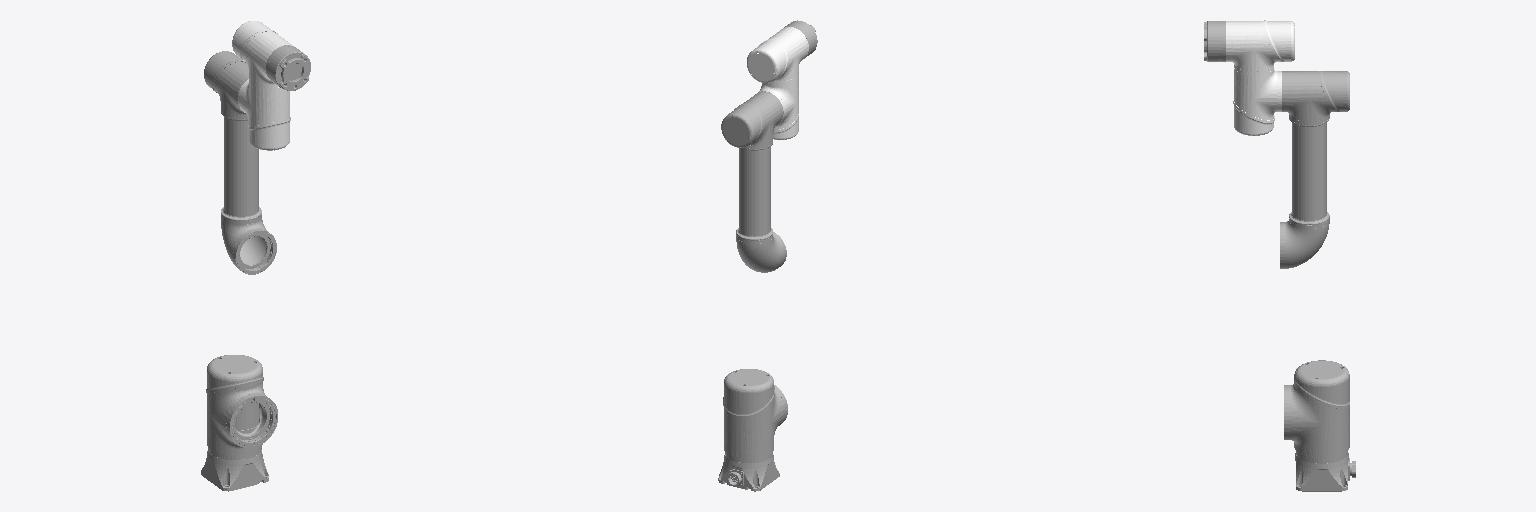
robot.urdf — ROCR6II_URDF_file:
<?xml version="1.0" encoding="utf-8"?>
<!-- This URDF was automatically created by SolidWorks to URDF Exporter! Originally created by [author] ([email redacted]) 
     Commit Version: 1.5.1-0-g916b5db  Build Version: 1.5.7152.31018
     For more information, please see http://wiki.ros.org/sw_urdf_exporter -->
<robot
  name="ROCR6II_URDF_file">
  <link name="world" />
  <joint name="world_joint" type="fixed">
    <parent link="world" />
    <child link = "base_link" />
    <origin xyz="0.0 0.0 0.0" rpy="3.1415926536 3.1415926536 0.0" />
  </joint>
  <link name="base"/>
  <joint name="base_link-base_fixed_joint" type="fixed">
	  <!-- NOTE: this rotation is only needed as long as base_link itself is
				 not corrected wrt the real robot (ie: rotated over 180
				 degrees)
	  -->
	  <origin xyz="0 0 0" rpy="0 0 -3.1415926536"/>
	  <parent link="base_link"/>
	  <child link="base"/>
  </joint>
  <link
    name="base_link">
    <inertial>
      <origin
        xyz="4.9125E-05 0.00039917 0.028159"
        rpy="0 0 0" />
      <mass
        value="0.9133" />
      <inertia
        ixx="0.0010268"
        ixy="-1.8231E-06"
        ixz="1.1094E-06"
        iyy="0.0010578"
        iyz="5.9529E-06"
        izz="0.001565" />
    </inertial>
    <visual>
      <origin
        xyz="0 0 0"
        rpy="0 0 0" />
      <geometry>
        <mesh
          filename="package://ROCR6II_URDF_file/meshes/base_link.STL" />
      </geometry>
      <material
        name="">
        <color
          rgba="0.75294 0.75294 0.75294 1" />
      </material>
    </visual>
    <collision>
      <origin
        xyz="0 0 0"
        rpy="0 0 0" />
      <geometry>
        <mesh
          filename="package://ROCR6II_URDF_file/meshes/base_link.STL" />
      </geometry>
    </collision>
  </link>
  <link
    name="shoulder_link">
    <inertial>
      <origin
        xyz="7.9174E-07 0.0037223 0.0030792"
        rpy="0 0 0" />
      <mass
        value="6.7582" />
      <inertia
        ixx="0.013187"
        ixy="5.4008E-08"
        ixz="4.6922E-08"
        iyy="0.012917"
        iyz="0.00018276"
        izz="0.0081221" />
    </inertial>
    <visual>
      <origin
        xyz="0 0 0"
        rpy="0 0 0" />
      <geometry>
        <mesh
          filename="package://ROCR6II_URDF_file/meshes/shoulder_link.STL" />
      </geometry>
      <material
        name="">
        <color
          rgba="0.75294 0.75294 0.75294 1" />
      </material>
    </visual>
    <collision>
      <origin
        xyz="0 0 0"
        rpy="0 0 0" />
      <geometry>
        <mesh
          filename="package://ROCR6II_URDF_file/meshes/shoulder_link.STL" />
      </geometry>
    </collision>
  </link>
  <joint
    name="shoulder_pan_joint"
    type="revolute">
    <origin
      xyz="0 0 0.1215"
      rpy="0 0 0" />
    <parent
      link="base_link" />
    <child
      link="shoulder_link" />
    <axis
      xyz="0 0 1" />
    <limit
      lower="-3.1416"
      upper="3.1416"
      effort="150"
      velocity="30" />
  </joint>
  <link
    name="upper_arm_link">
    <inertial>
      <origin
        xyz="-5.4357E-07 0.0032767 0.12625"
        rpy="0 0 0" />
      <mass
        value="12.877" />
      <inertia
        ixx="0.024695"
        ixy="-8.2704E-09"
        ixz="-6.8716E-08"
        iyy="0.019038"
        iyz="0.00066134"
        izz="0.018496" />
    </inertial>
    <visual>
      <origin
        xyz="0 0 0"
        rpy="0 0 0" />
      <geometry>
        <mesh
          filename="package://ROCR6II_URDF_file/meshes/upper_arm_link.STL" />
      </geometry>
      <material
        name="">
        <color
          rgba="0.75294 0.75294 0.75294 1" />
      </material>
    </visual>
    <collision>
      <origin
        xyz="0 0 0"
        rpy="0 0 0" />
      <geometry>
        <mesh
          filename="package://ROCR6II_URDF_file/meshes/upper_arm_link.STL" />
      </geometry>
    </collision>
  </link>
  <joint
    name="shoulder_lift_joint"
    type="revolute">
    <origin
      xyz="0 0.1225 0"
      rpy="0 0 0" />
    <parent
      link="shoulder_link" />
    <child
      link="upper_arm_link" />
    <axis
      xyz="0 1 0" />
    <limit
      lower="-3.1416"
      upper="3.1416"
      effort="150"
      velocity="30" />
  </joint>
  <link
    name="forearm_link">
    <inertial>
      <origin
        xyz="0.00014266 -0.0049203 0.20706"
        rpy="0 0 0" />
      <mass
        value="4.7791" />
      <inertia
        ixx="0.0094222"
        ixy="-1.1118E-05"
        ixz="1.1672E-05"
        iyy="0.0072962"
        iyz="0.00022329"
        izz="0.0052999" />
    </inertial>
    <visual>
      <origin
        xyz="0 0 0"
        rpy="0 0 0" />
      <geometry>
        <mesh
          filename="package://ROCR6II_URDF_file/meshes/forearm_link.STL" />
      </geometry>
      <material
        name="">
        <color
          rgba="0.75294 0.75294 0.75294 1" />
      </material>
    </visual>
    <collision>
      <origin
        xyz="0 0 0"
        rpy="0 0 0" />
      <geometry>
        <mesh
          filename="package://ROCR6II_URDF_file/meshes/forearm_link.STL" />
      </geometry>
    </collision>
  </link>
  <joint
    name="elbow_joint"
    type="revolute">
    <origin
      xyz="0 -0.102 0.3"
      rpy="0 0 0" />
    <parent
      link="upper_arm_link" />
    <child
      link="forearm_link" />
    <axis
      xyz="0 1 0" />
    <limit
      lower="-3.1416"
      upper="3.1416"
      effort="150"
      velocity="30" />
  </joint>
  <link
    name="wrist_1_link">
    <inertial>
      <origin
        xyz="5.3079E-07 0.087296 -0.010609"
        rpy="0 0 0" />
      <mass
        value="3.1072" />
      <inertia
        ixx="0.0040287"
        ixy="-7.3158E-09"
        ixz="-2.3481E-09"
        iyy="0.0039406"
        iyz="9.4145E-05"
        izz="0.0018825" />
    </inertial>
    <visual>
      <origin
        xyz="0 0 0"
        rpy="0 0 0" />
      <geometry>
        <mesh
          filename="package://ROCR6II_URDF_file/meshes/wrist_1_link.STL" />
      </geometry>
      <material
        name="">
        <color
          rgba="1 1 1 1" />
      </material>
    </visual>
    <collision>
      <origin
        xyz="0 0 0"
        rpy="0 0 0" />
      <geometry>
        <mesh
          filename="package://ROCR6II_URDF_file/meshes/wrist_1_link.STL" />
      </geometry>
    </collision>
  </link>
  <joint
    name="wrist_1_joint"
    type="revolute">
    <origin
      xyz="0 0 0.276"
      rpy="0 0 0" />
    <parent
      link="forearm_link" />
    <child
      link="wrist_1_link" />
    <axis
      xyz="0 1 0" />
    <limit
      lower="-3.1416"
      upper="3.1416"
      effort="150"
      velocity="30" />
  </joint>
  <link
    name="wrist_2_link">
    <inertial>
      <origin
        xyz="-5.306E-07 -0.010609 0.087296"
        rpy="0 0 0" />
      <mass
        value="3.1072" />
      <inertia
        ixx="0.0040287"
        ixy="2.3491E-09"
        ixz="7.3E-09"
        iyy="0.0018825"
        iyz="9.4145E-05"
        izz="0.0039406" />
    </inertial>
    <visual>
      <origin
        xyz="0 0 0"
        rpy="0 0 0" />
      <geometry>
        <mesh
          filename="package://ROCR6II_URDF_file/meshes/wrist_2_link.STL" />
      </geometry>
      <material
        name="">
        <color
          rgba="1 1 1 1" />
      </material>
    </visual>
    <collision>
      <origin
        xyz="0 0 0"
        rpy="0 0 0" />
      <geometry>
        <mesh
          filename="package://ROCR6II_URDF_file/meshes/wrist_2_link.STL" />
      </geometry>
    </collision>
  </link>
  <joint
    name="wrist_2_joint"
    type="revolute">
    <origin
      xyz="0 0.09 0"
      rpy="0 0 0" />
    <parent
      link="wrist_1_link" />
    <child
      link="wrist_2_link" />
    <axis
      xyz="0 0 1" />
    <limit
      lower="-3.1416"
      upper="3.1416"
      effort="150"
      velocity="30" />
  </joint>
  <link
    name="wrist_3_link">
    <inertial>
      <origin
        xyz="-1.7174E-09 0.064961 2.5473E-05"
        rpy="0 0 0" />
      <mass
        value="0.59141" />
      <inertia
        ixx="0.0002476"
        ixy="-2.2015E-14"
        ixz="1.3425E-10"
        iyy="0.00040058"
        iyz="4.9238E-06"
        izz="0.00024889" />
    </inertial>
    <visual>
      <origin
        xyz="0 0 0"
        rpy="0 0 0" />
      <geometry>
        <mesh
          filename="package://ROCR6II_URDF_file/meshes/wrist_3_link.STL" />
      </geometry>
      <material
        name="">
        <color
          rgba="0.75294 0.75294 0.75294 1" />
      </material>
    </visual>
    <collision>
      <origin
        xyz="0 0 0"
        rpy="0 0 0" />
      <geometry>
        <mesh
          filename="package://ROCR6II_URDF_file/meshes/wrist_3_link.STL" />
      </geometry>
    </collision>
  </link>
  <joint
    name="wrist_3_joint"
    type="revolute">
    <origin
      xyz="0 0 0.09"
      rpy="0 0 0" />
    <parent
      link="wrist_2_link" />
    <child
      link="wrist_3_link" />
    <axis
      xyz="0 1 0" />
    <limit
      lower="-3.1416"
      upper="3.1416"
      effort="150"
      velocity="30" />
  </joint>
  
      <!--new add content -->
  <joint name="ee_fixed_joint" type="fixed">
    <parent link="wrist_3_link"/>
    <child link="ee_link"/>
    <origin rpy="0.0 0.0 1.57079632679" xyz="0.0 0.090 0.0"/>
  </joint>
  <link name="ee_link">
    <collision>
      <geometry>
        <box size="0.01 0.01 0.01"/>
      </geometry>
      <origin rpy="0 0 0" xyz="-0.01 0 0"/>
    </collision>
  </link>
	
      <!-- Frame coincident with all-zeros TCP on ROCR6II controller -->
  <link name="tool0"/>
  <joint name="wrist_3_link-tool0_fixed_joint" type="fixed">
    <origin rpy="-1.57079632679 0 0" xyz="0 0.082 0"/>
    <parent link="wrist_3_link"/>
    <child link="tool0"/>
  </joint>
</robot>

--- Render facts (derived) ---
The picture shows the robot from 3 angles, left to right: view 1: azimuth 30°, elevation 25°; view 2: azimuth 150°, elevation 25°; view 3: azimuth 270°, elevation 25°; orthographic projection.
Robot: ROCR6II_URDF_file — 11 links, 10 joints (6 revolute, 4 fixed); root link world; default pose: every joint at zero.
Visible links, largest first — view 1: forearm_link, shoulder_link, wrist_1_link, base_link, wrist_2_link, wrist_3_link; view 2: forearm_link, shoulder_link, wrist_2_link, base_link, wrist_1_link; view 3: forearm_link, shoulder_link, wrist_2_link, wrist_1_link, base_link, wrist_3_link.
Boxes of the visible links, x1=… form: forearm_link: x1=204, y1=51, x2=276, y2=274; shoulder_link: x1=206, y1=355, x2=277, y2=454; wrist_1_link: x1=237, y1=79, x2=290, y2=150; base_link: x1=201, y1=447, x2=268, y2=491; wrist_2_link: x1=232, y1=21, x2=292, y2=87; wrist_3_link: x1=266, y1=45, x2=310, y2=90; forearm_link: x1=721, y1=91, x2=786, y2=272; shoulder_link: x1=723, y1=369, x2=787, y2=458; wrist_2_link: x1=747, y1=27, x2=808, y2=83; base_link: x1=718, y1=452, x2=779, y2=491; wrist_1_link: x1=758, y1=78, x2=798, y2=139; forearm_link: x1=1280, y1=71, x2=1349, y2=268; shoulder_link: x1=1284, y1=360, x2=1349, y2=458; wrist_2_link: x1=1226, y1=20, x2=1294, y2=74; wrist_1_link: x1=1233, y1=69, x2=1281, y2=135; base_link: x1=1295, y1=451, x2=1355, y2=491; wrist_3_link: x1=1204, y1=21, x2=1225, y2=61.
Size in the robot's own frame: 0.092 by 0.2485 by 0.8215 metres.
6 mesh visuals loaded from 7 distinct referenced files (6 binary STL); not drawn: 1 (reference not matched to a file when rendering).
